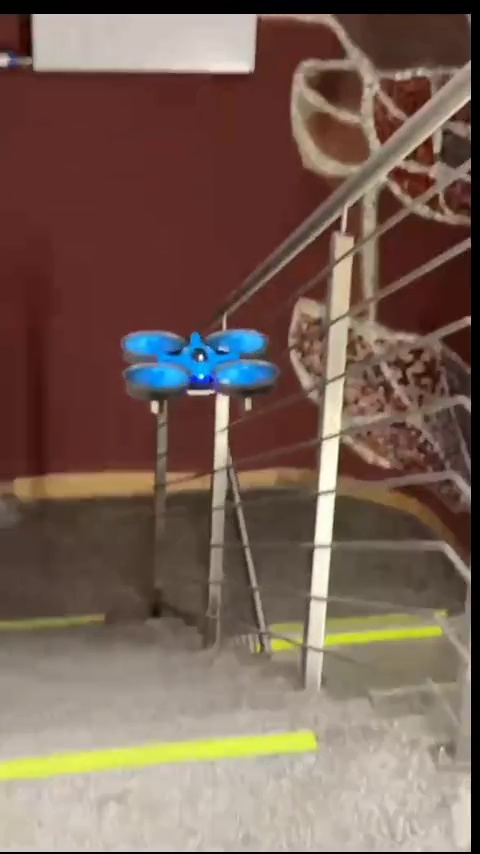drone: (115, 326, 275, 411)
